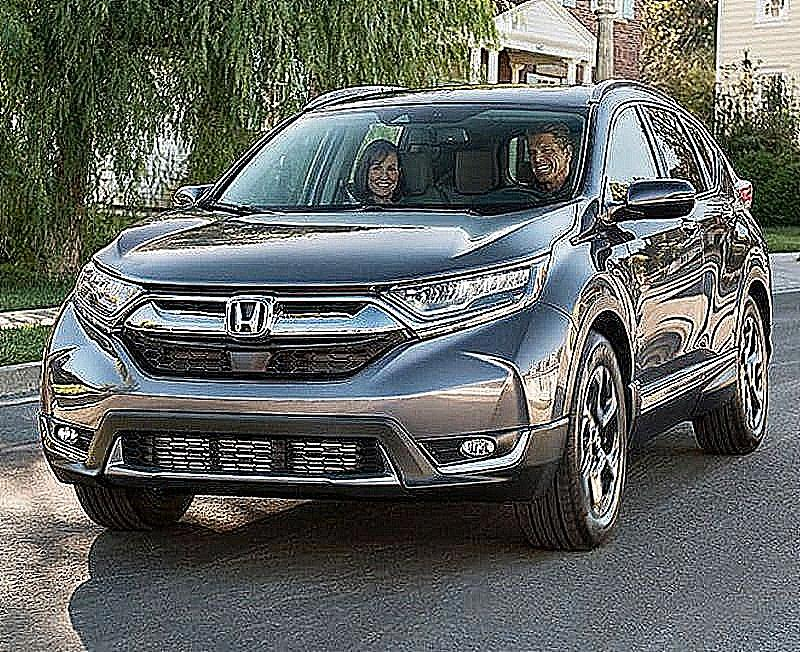Car hood: (90, 205, 577, 290)
Fender - -F-L-: (530, 192, 637, 360)
Front bumper: (37, 302, 576, 495)
Headlight - -L-: (371, 248, 555, 341)
Headlight - -R-: (64, 259, 147, 337)
Passenger-s door - -F-L-: (587, 63, 711, 454)
Passenger-s door - -R-L-: (645, 53, 755, 417)
Side bumper - -L-: (625, 344, 756, 469)
Side mirror - -L-: (596, 177, 701, 233)
